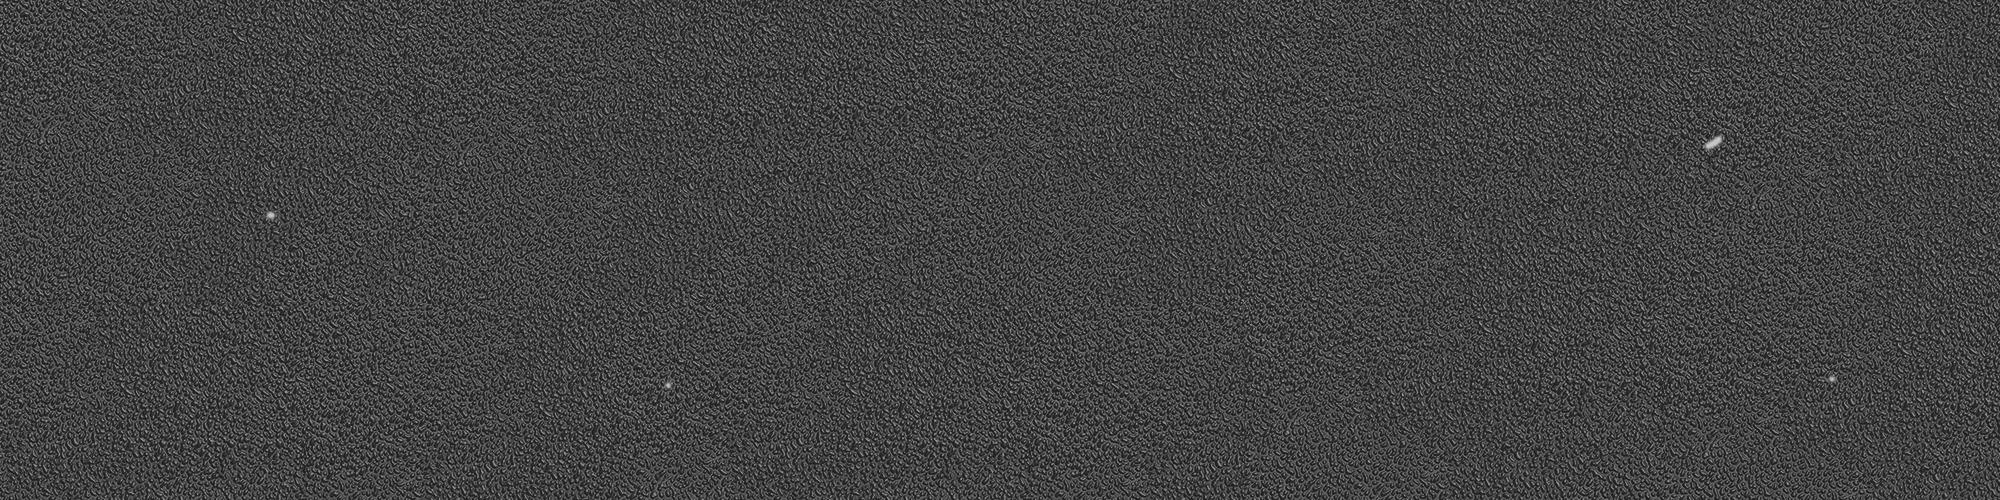Particles: (1700, 135, 1730, 151), (261, 207, 282, 222), (1827, 372, 1841, 386), (662, 376, 675, 392)
